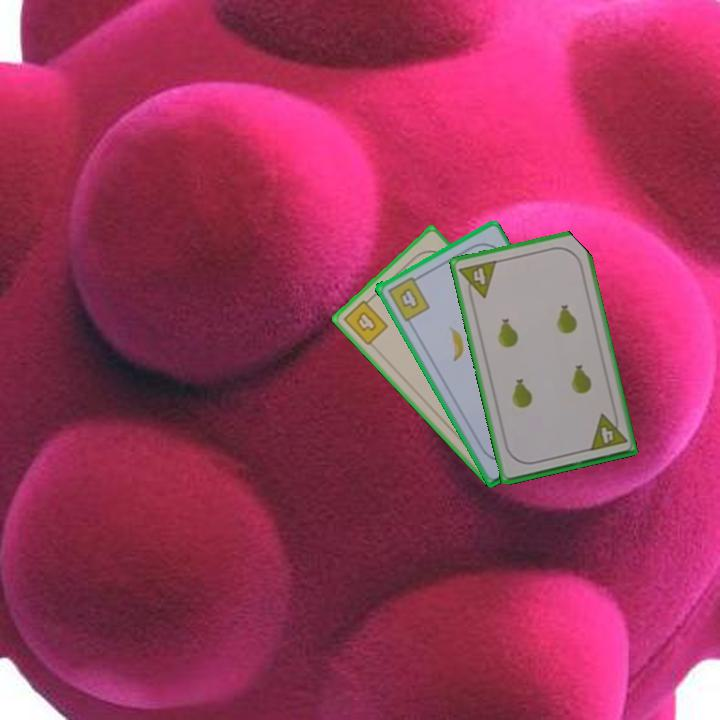4b: (339, 293, 391, 348), (383, 272, 432, 324)
4p: (455, 257, 500, 304), (586, 408, 630, 454)
